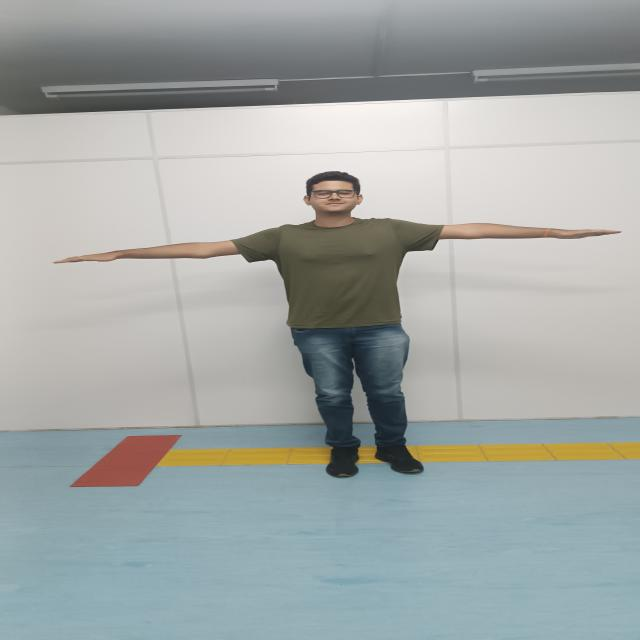takeoff: (55, 171, 621, 476)
